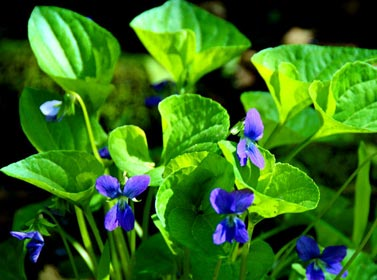violet: (94, 170, 149, 232), (207, 186, 253, 248), (296, 236, 350, 280), (227, 109, 265, 170), (9, 222, 48, 264)
